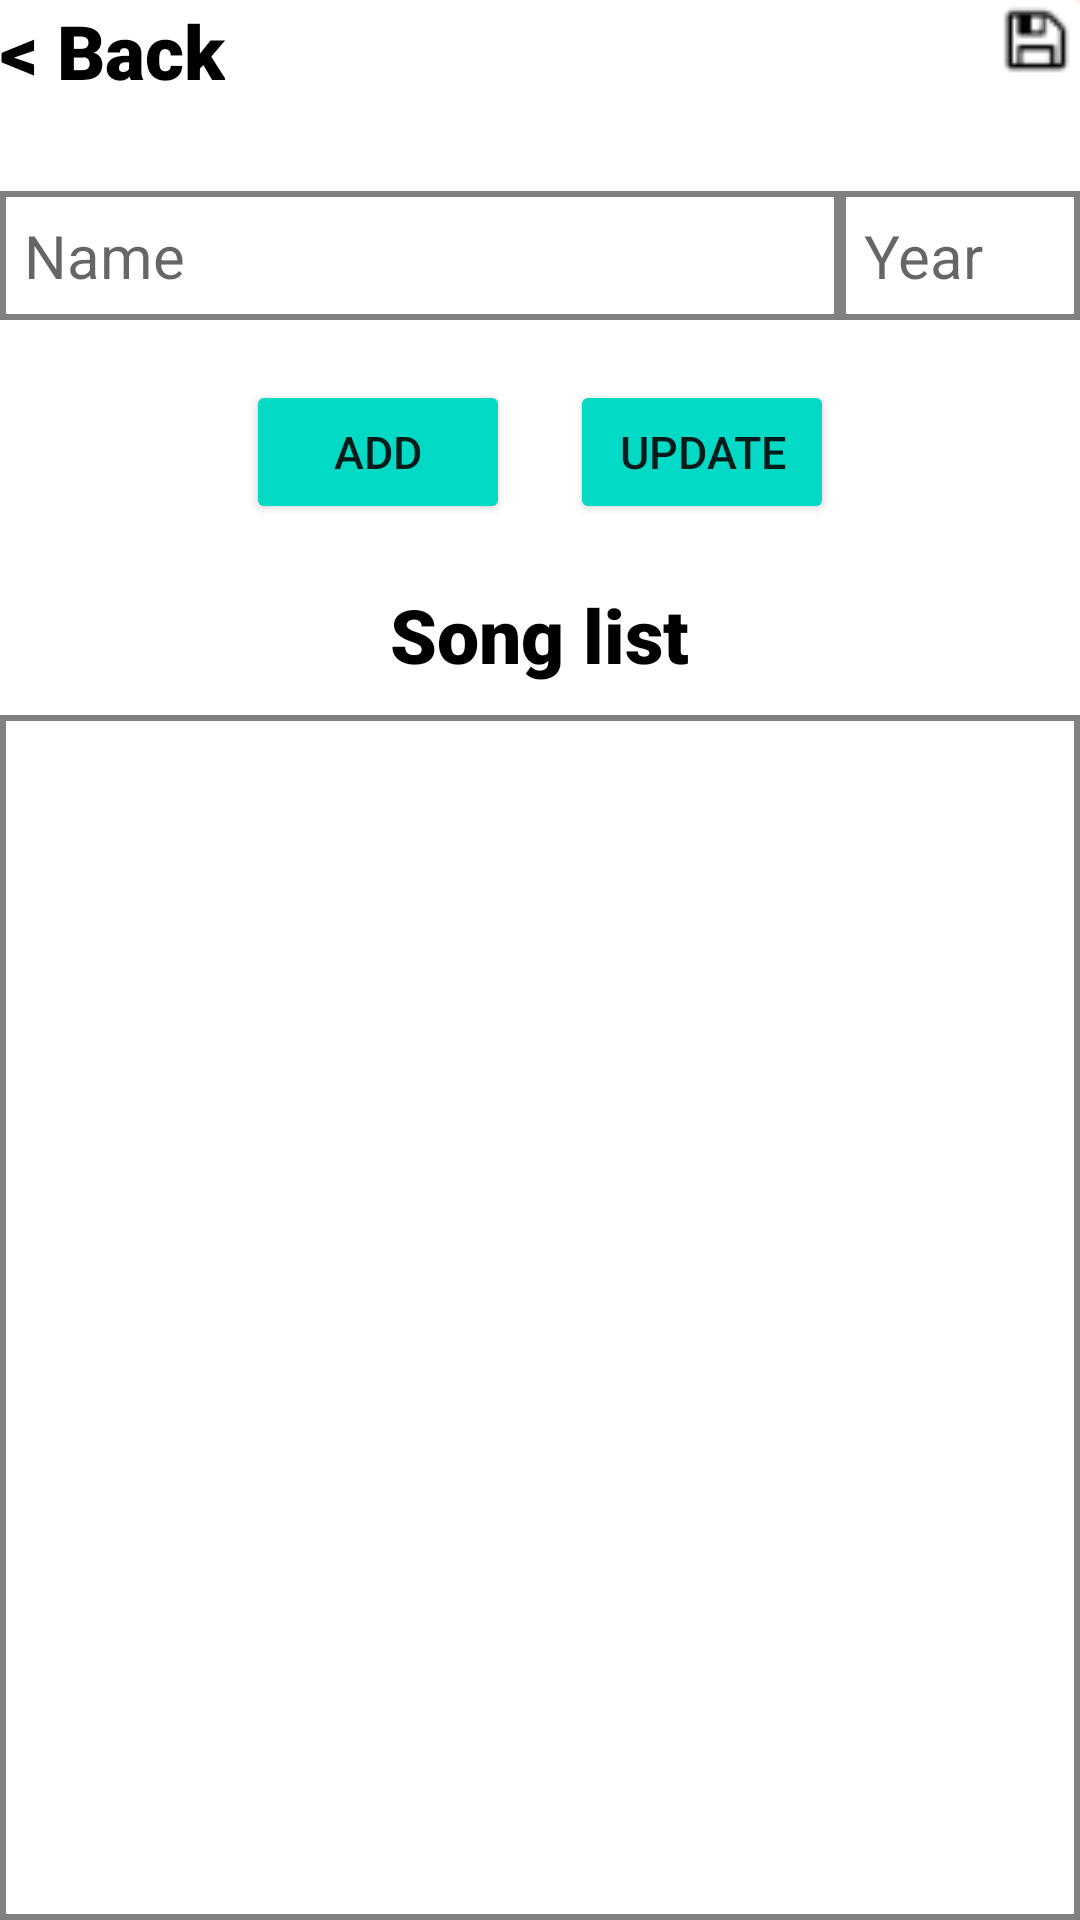

Icons on this 1080w x 1920h Android screen, each with the point to tap as (x=x, y=y):
save: (x=1036, y=40)
